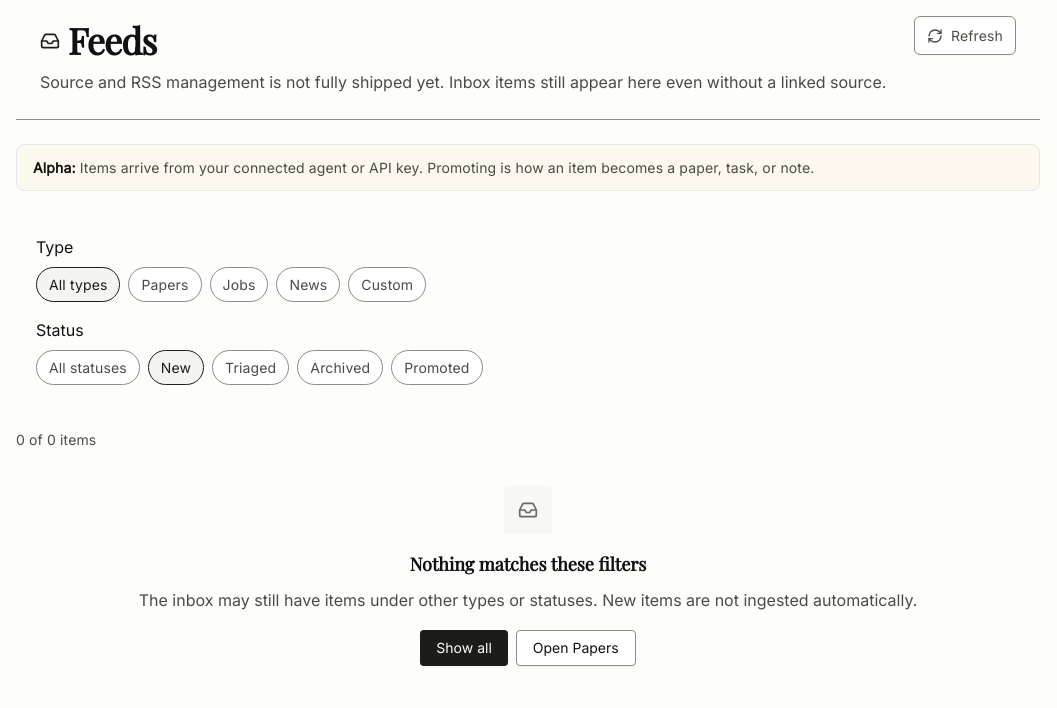
FeedsView › keeps Feeds visible and points to the library when every filter is empty
The width and height of the screenshot is (1057, 708).
Click the button "Show all".
click(464, 648)  # box [420, 630, 508, 666]
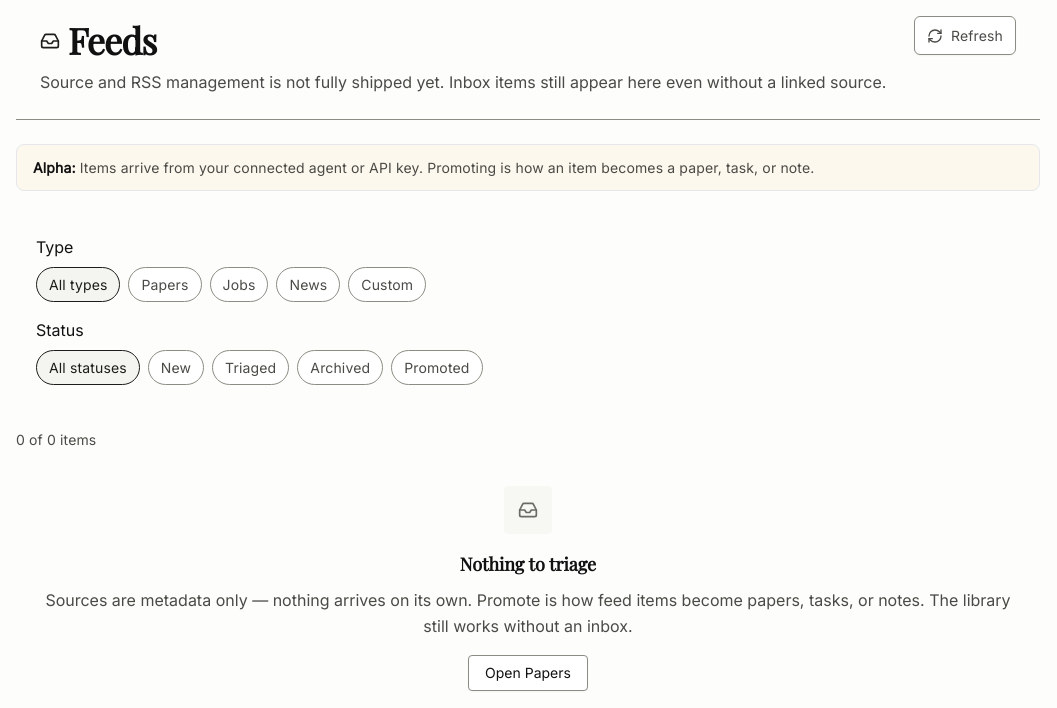
Expected: the heading "Nothing to triage" is shown, [460, 552, 596, 576]
Expected: the text "nothing arrives on its own" is shown, [45, 590, 1011, 636]
Expected: the button "Show all" is gone
